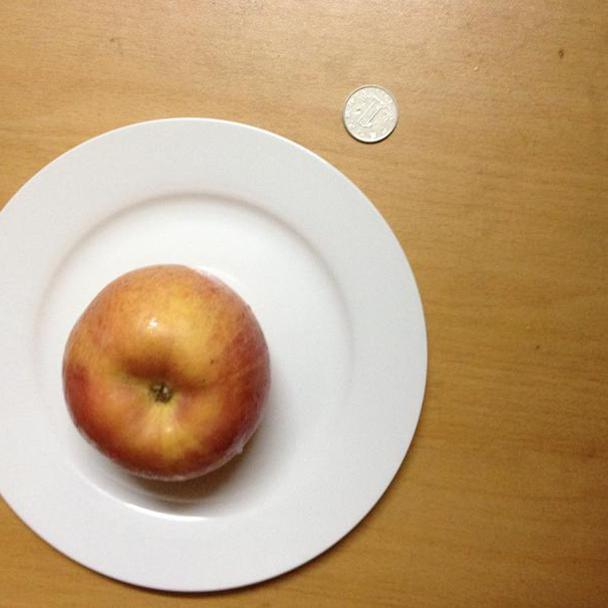apple: (62, 263, 271, 482)
